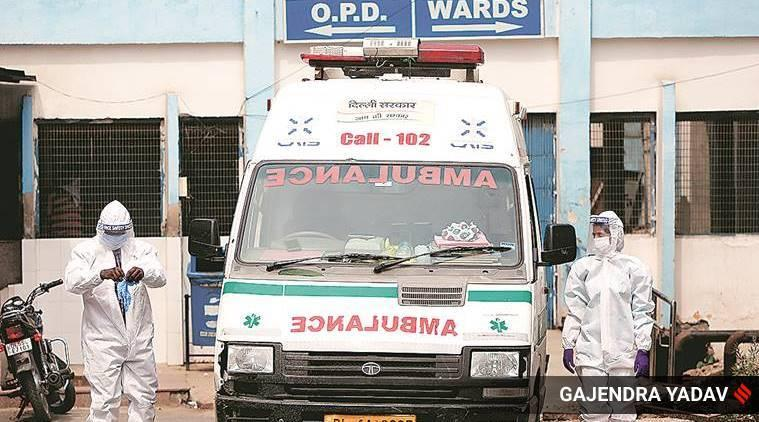Emergency-Vehicles: (192, 30, 571, 422)
